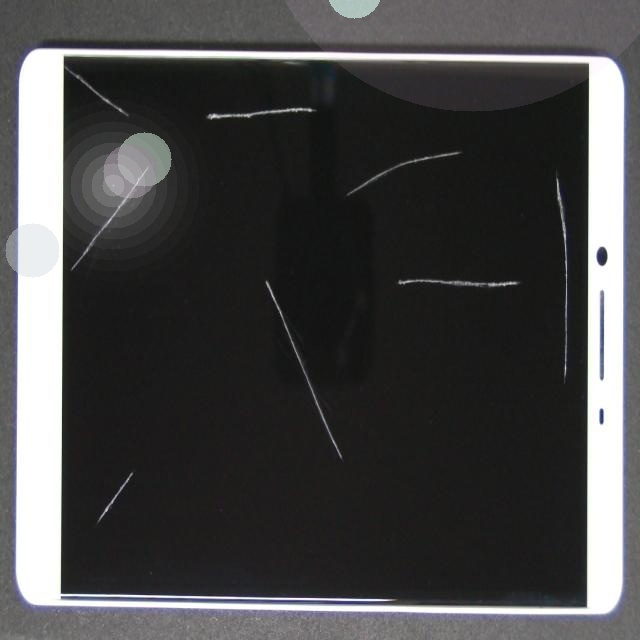scratch: (78, 27, 427, 526), (261, 0, 640, 366), (342, 139, 640, 394), (223, 47, 426, 150), (0, 15, 134, 159)
